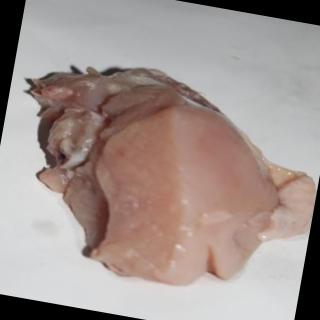Ayam: (4, 52, 320, 309)
